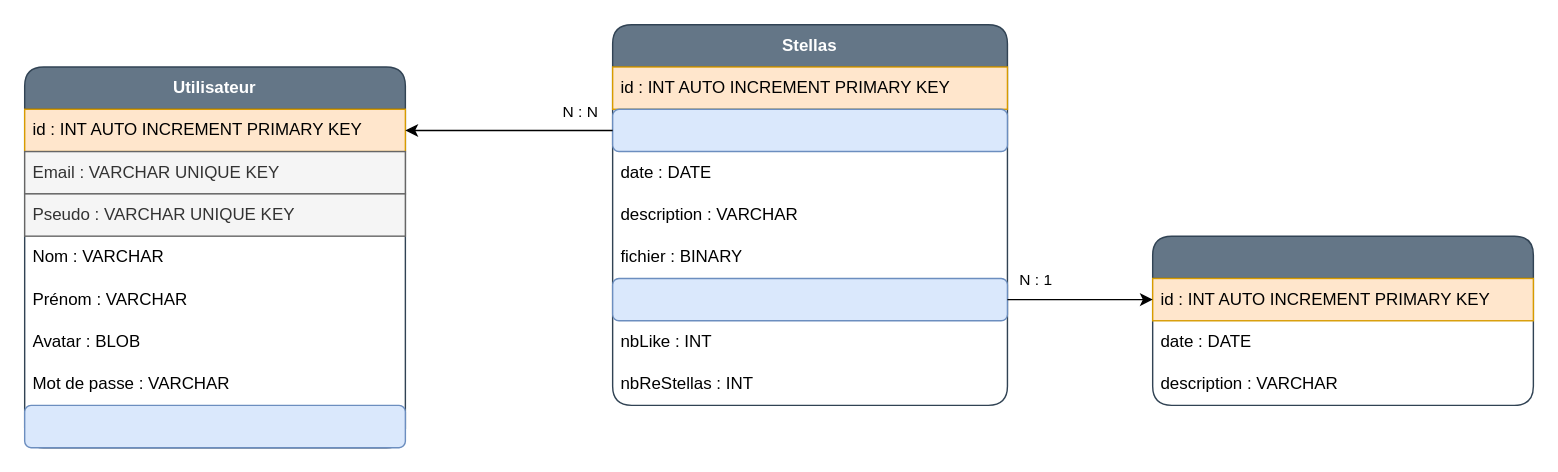
Some shapes in this 1558 by 472 pixel diagram are drawn without their labels. The box of each missing label's shape, as (x1, y1, x2, y2) in pixels:
Commentaire: (1151, 235, 1533, 405)
idCommentaire : INT FOREIGN KEY: (611, 277, 1007, 321)
idEntreprise : INT FOREIGN KEY: (23, 404, 405, 448)
idUtilisateur : INT FOREIGN KEY: (611, 108, 1007, 152)
